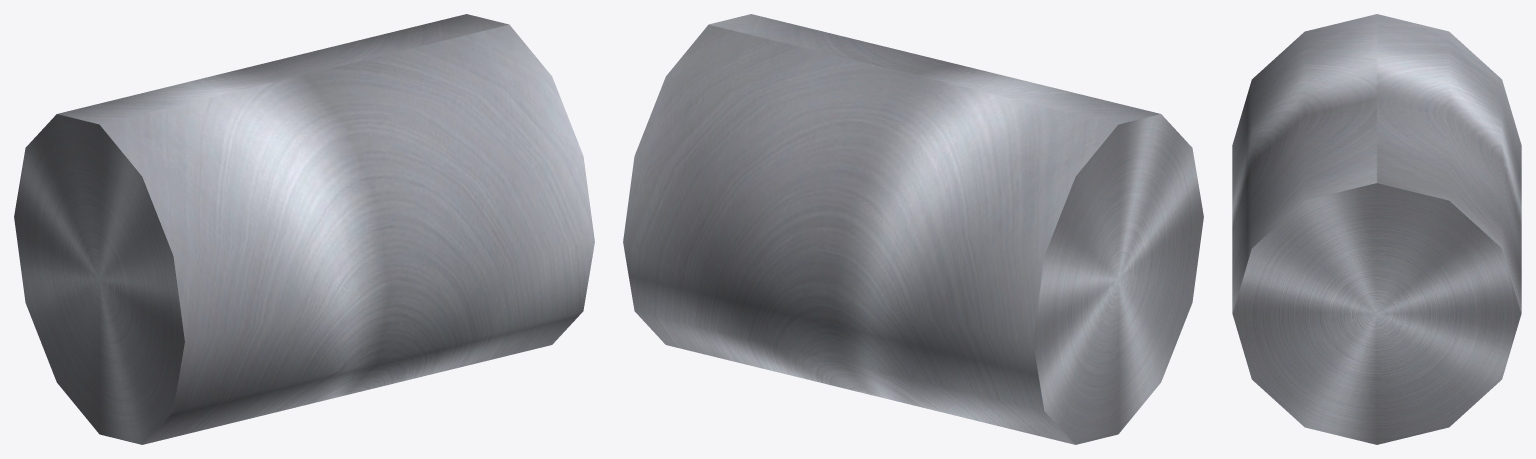
Rendered from ra_cilinder03.obj.
3 views of the same model, side by side, from view 1: azimuth 30°, elevation 25°; view 2: azimuth 150°, elevation 25°; view 3: azimuth 270°, elevation 25° (orthographic). The views are drawn at different scales.
Parts seen in each view (by area): view 1: cilinder3; view 2: cilinder3; view 3: cilinder3.
Boxes of the visible parts, x1,y1,x2,y2 form: cilinder3: (14,14,594,444); cilinder3: (623,14,1203,444); cilinder3: (1232,14,1521,444).
Bounding box in the file's own units: 7.48 × 5.4 × 5.4.
1 material, 1 textured.
